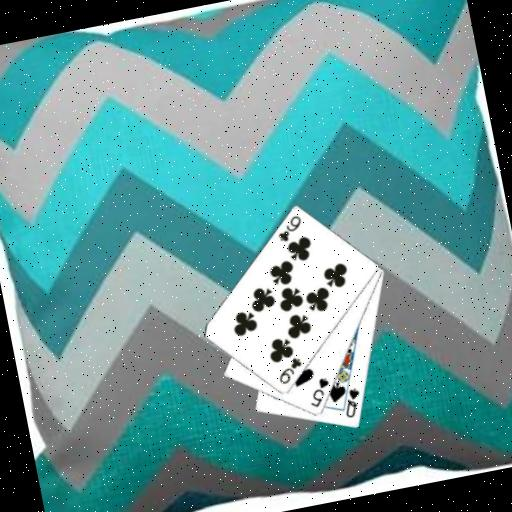5S: (303, 374, 335, 411)
9C: (272, 212, 307, 246), (273, 354, 307, 388)
QS: (338, 385, 366, 421)
